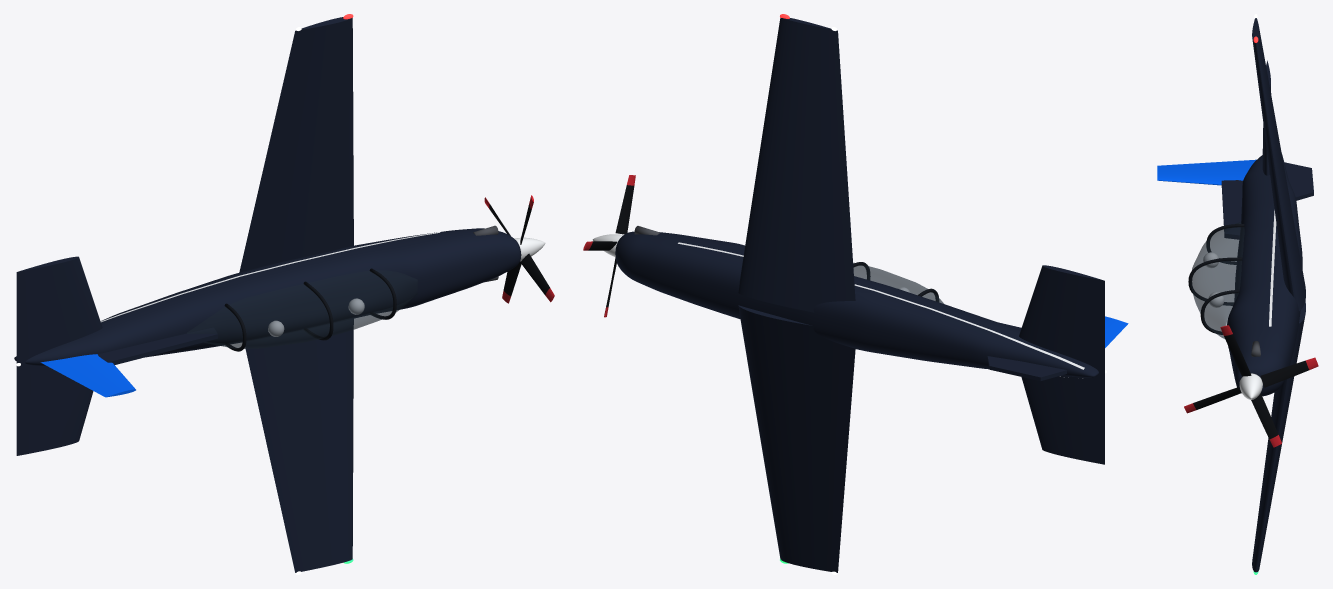
3 renders of one model, left to right at view 1: azimuth 30°, elevation 25°; view 2: azimuth 150°, elevation 25°; view 3: azimuth 270°, elevation 25°, orthographic. The views are drawn at different scales.
Parts seen in each view (by area): view 1: navy, glass, ship_color, blade, frame; view 2: navy, glass, blade, white; view 3: navy, glass, blade, ship_color, frame, chrome, prop_tip, white, helmet.
Boxes of the visible parts, box(x1,y1,x2,y2) form: navy: box(14, 17, 520, 572); glass: box(187, 270, 417, 348); ship_color: box(40, 354, 135, 397); blade: box(489, 204, 549, 296); frame: box(224, 268, 396, 351); navy: box(615, 17, 1104, 572); glass: box(853, 262, 943, 303); blade: box(588, 185, 634, 307); white: box(678, 242, 1084, 378); navy: box(1221, 18, 1313, 572); glass: box(1191, 222, 1244, 338); blade: box(1193, 334, 1308, 439); ship_color: box(1157, 159, 1256, 185); frame: box(1188, 224, 1244, 334); chrome: box(1239, 373, 1262, 399); prop_tip: box(1184, 325, 1318, 447); white: box(1269, 210, 1276, 326); helmet: box(1203, 252, 1224, 307).
Bounding box in the file's own units: 1.45 × 1.46 × 0.3986.
